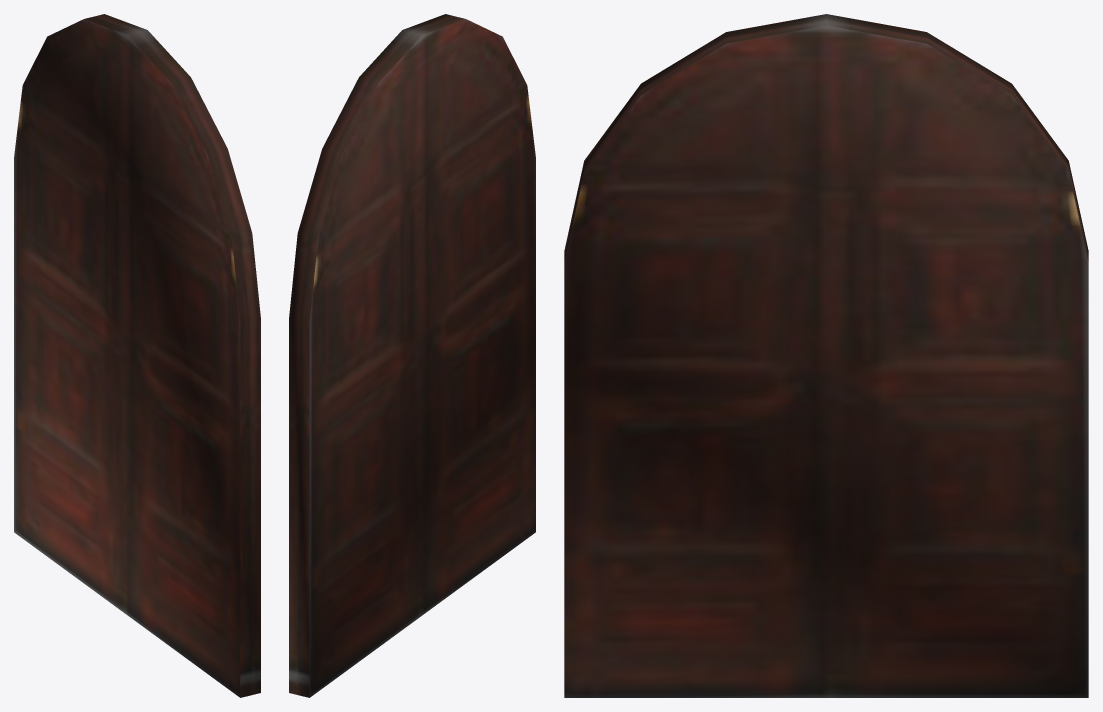
The model's file is door.glb.
The picture shows the model from 3 angles, left to right: view 1: azimuth 30°, elevation 25°; view 2: azimuth 150°, elevation 25°; view 3: azimuth 270°, elevation 25°; orthographic projection. The views are drawn at different scales.
Parts seen in each view (by area): view 1: door.ms3d.mo; view 2: door.ms3d.mo; view 3: door.ms3d.mo.
Part boxes in pixels (left/top/right/bottom): door.ms3d.mo: left=14, top=14, right=260, bottom=697; door.ms3d.mo: left=289, top=14, right=535, bottom=697; door.ms3d.mo: left=564, top=14, right=1088, bottom=697.
Size of the model in its own units: 1.1 by 29.59 by 20.92.
1 material, 1 textured.
